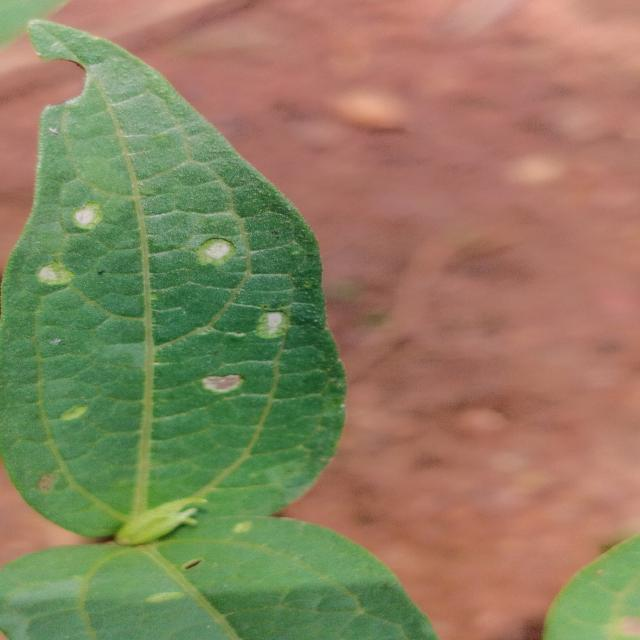Black gram_leaf spot: (8, 10, 349, 539)
